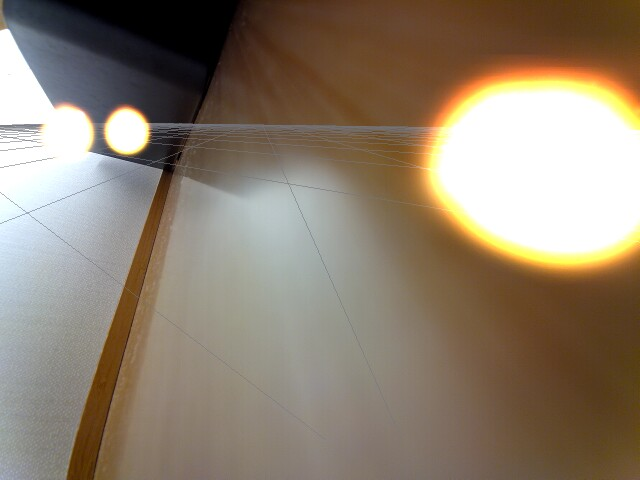firebig: (422, 45, 640, 290)
